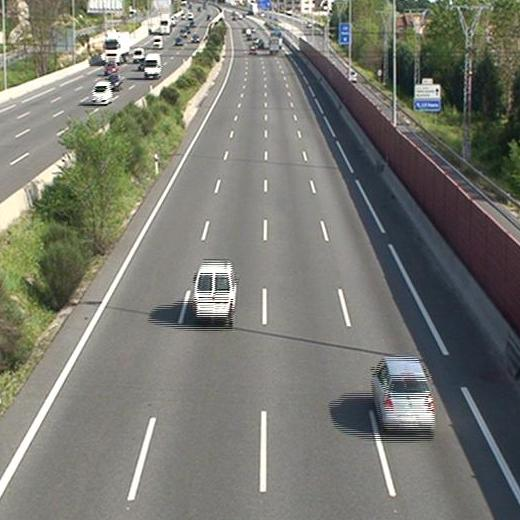car: (373, 359, 434, 429)
van: (194, 264, 236, 317)
